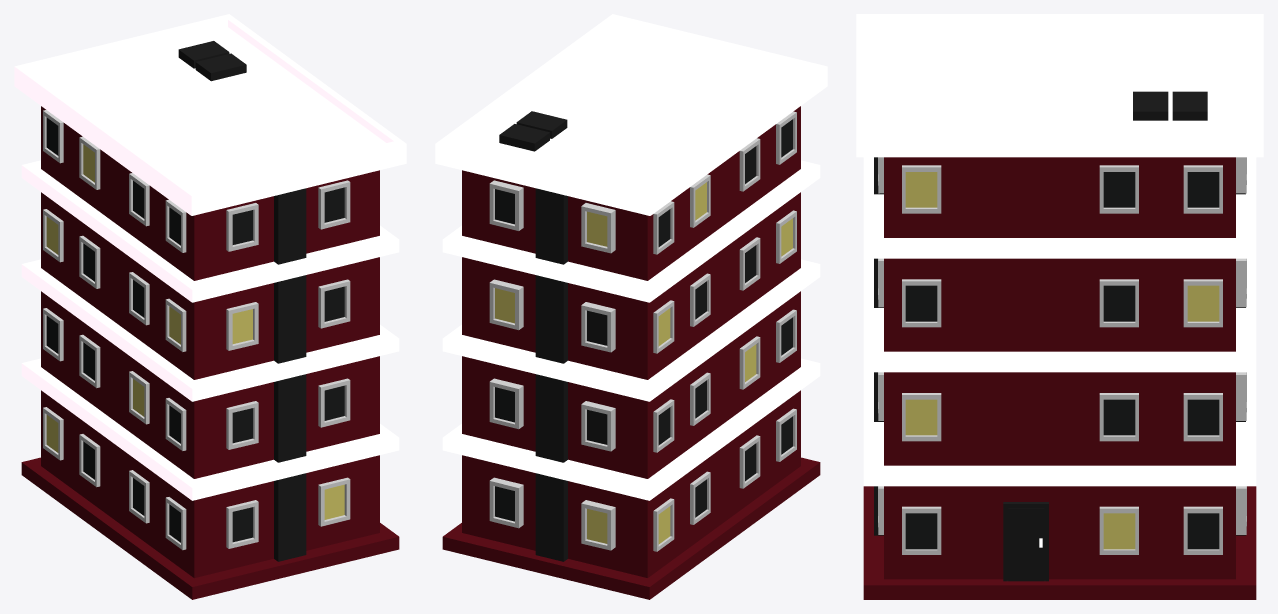
File: Building_Fertig_mittel.fbx
3 views of the same model, side by side, from view 1: azimuth 30°, elevation 25°; view 2: azimuth 150°, elevation 25°; view 3: azimuth 270°, elevation 25° (orthographic). The views are drawn at different scales.
Visible parts, largest first — view 1: Cube.001_Cube.003, Cube.004_Cube.007, Cube.012_Cube.013, Cube.009_Cube.010, Cube.007_Cube.008, Cube.006_Cube.004, Cube.005_Cube.002, Cube.003_Cube.001, Cube.011_Cube.012, Cube.003_Cube.002, Cube.008_Cube.009; view 2: Cube.001_Cube.003, Cube.004_Cube.007, Cube.012_Cube.013, Cube.009_Cube.010, Cube.007_Cube.008, Cube.006_Cube.004, Cube.005_Cube.002, Cube.003_Cube.001, Cube.011_Cube.012, Cube.003_Cube.002, Cube.008_Cube.009; view 3: Cube.001_Cube.003, Cube.004_Cube.007, Cube.005_Cube.002, Cube.006_Cube.004, Cube.007_Cube.008, Cube.012_Cube.013, Cube.003_Cube.001, Cube.003_Cube.002, Cube_Cube.005, Cube.011_Cube.012, Cube.008_Cube.009, Cube.009_Cube.010.
Boxes of the visible parts, x1,y1,x2,y2 form: Cube.001_Cube.003: (21,106,399,599); Cube.004_Cube.007: (14,14,406,215); Cube.012_Cube.013: (43,110,350,450); Cube.009_Cube.010: (274,188,306,561); Cube.007_Cube.008: (21,160,399,302); Cube.006_Cube.004: (21,259,399,401); Cube.005_Cube.002: (21,358,399,500); Cube.003_Cube.001: (46,117,344,542); Cube.011_Cube.012: (43,407,350,550); Cube.003_Cube.002: (46,144,344,519); Cube.008_Cube.009: (178,41,246,81); Cube.001_Cube.003: (442,106,820,599); Cube.004_Cube.007: (435,14,827,215); Cube.012_Cube.013: (489,111,796,452); Cube.009_Cube.010: (535,188,567,561); Cube.007_Cube.008: (442,160,820,302); Cube.006_Cube.004: (442,259,820,401); Cube.005_Cube.002: (442,358,820,500); Cube.003_Cube.001: (495,119,792,521); Cube.011_Cube.012: (489,408,796,551); Cube.003_Cube.002: (495,182,792,544); Cube.008_Cube.009: (499,111,567,151); Cube.001_Cube.003: (863,157,1256,599); Cube.004_Cube.007: (856,14,1263,157); Cube.005_Cube.002: (863,372,1256,486); Cube.006_Cube.004: (863,258,1256,372); Cube.007_Cube.008: (863,157,1256,258); Cube.012_Cube.013: (878,157,1246,441); Cube.003_Cube.001: (905,172,1219,549); Cube.003_Cube.002: (905,172,1219,549); Cube_Cube.005: (1003,502,1048,581); Cube.011_Cube.012: (878,486,1246,554); Cube.008_Cube.009: (1133,91,1207,120); Cube.009_Cube.010: (874,157,1245,535).
Size of the model in its own units: 1619 by 2312 by 2935.
